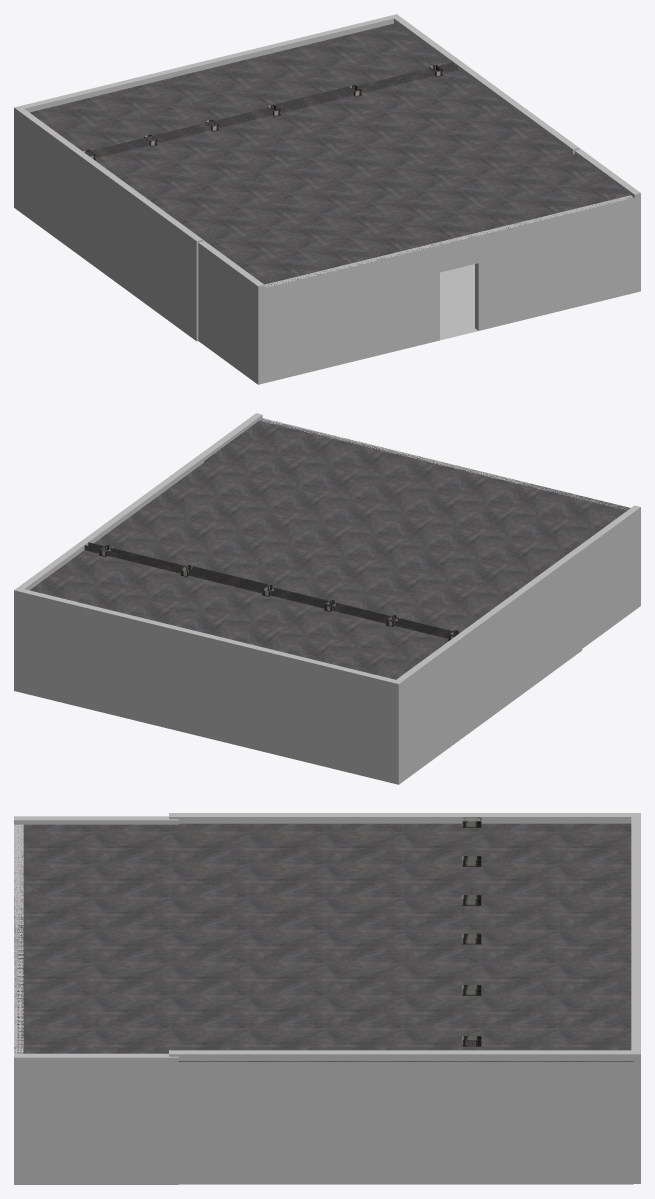
Rendered from LC_cont1_049.obj.
The picture shows the model from 3 angles, top to bottom: view 1: azimuth 30°, elevation 25°; view 2: azimuth 150°, elevation 25°; view 3: azimuth 270°, elevation 25°; orthographic projection. The views are drawn at different scales.
Visible parts, largest first — view 1: LC_cont1_049; view 2: LC_cont1_049; view 3: LC_cont1_049.
Part boxes in pixels (<box>): LC_cont1_049: <box>14,14,640,384</box>; LC_cont1_049: <box>14,413,640,784</box>; LC_cont1_049: <box>14,813,640,1184</box>.
Bounding box in the file's own units: 18.51 × 4.69 × 20.23.
